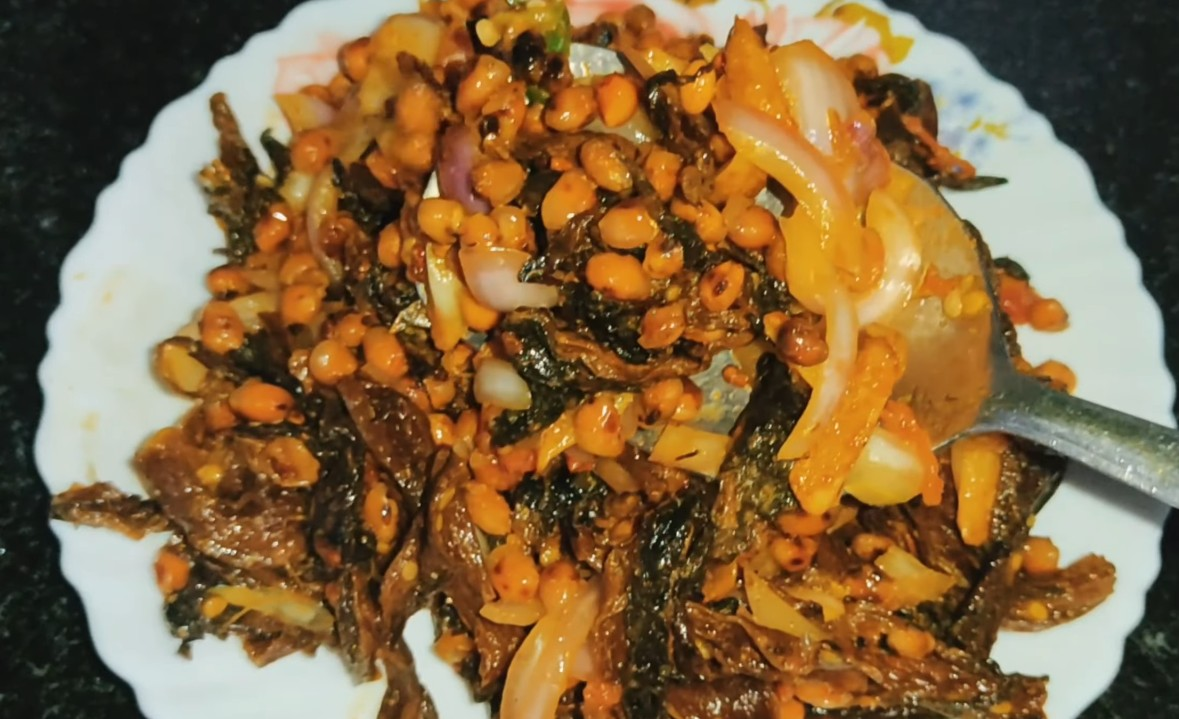gundruk: (232, 43, 1032, 707)
